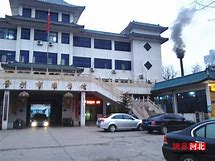smoke: (168, 4, 196, 57)
